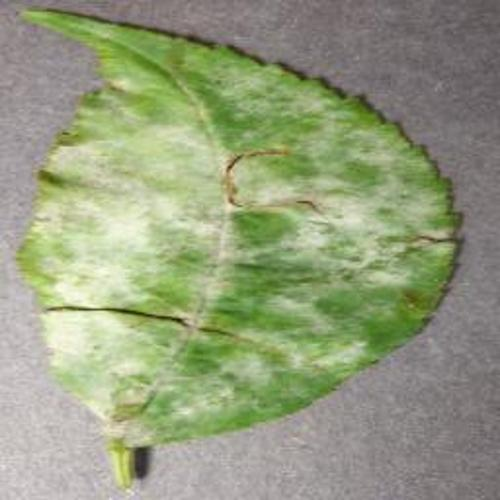Cherry: (16, 10, 462, 487)
